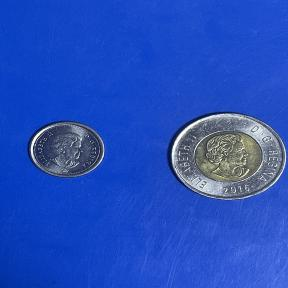coin: (159, 106, 288, 211), (22, 114, 110, 184)
